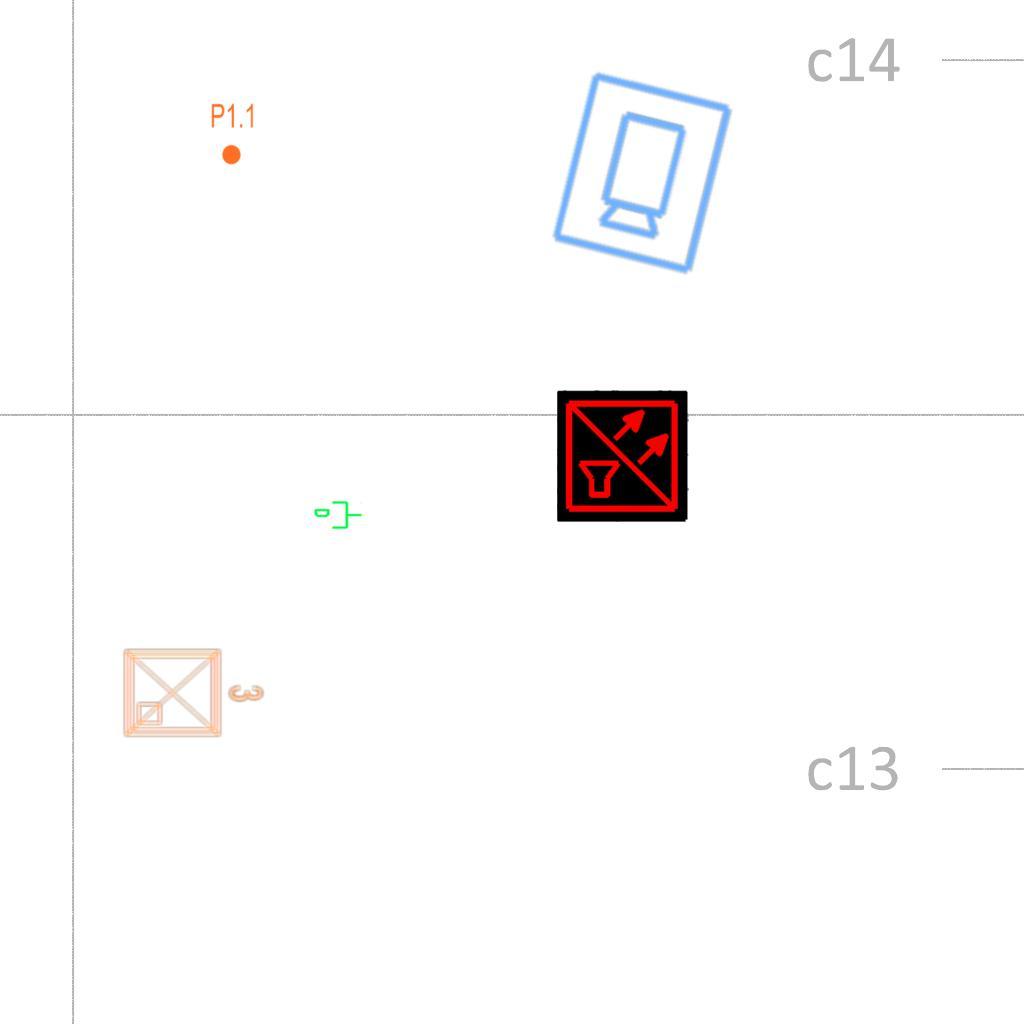Datenanschluss_einfach: (313, 499, 363, 533)
Downlight_LED_Einbauleuchten_Flur: (210, 102, 256, 166)
Einbaudownlights_LED_Konferenzraeume: (118, 639, 268, 743)
KFO_Kamera_mit_Festobjektiv: (544, 65, 738, 279)
OKW_Multisensormelder_(Kombination_optischer_Rauch-Kahlenmonoxid_Waerme-Melder): (557, 390, 689, 522)
